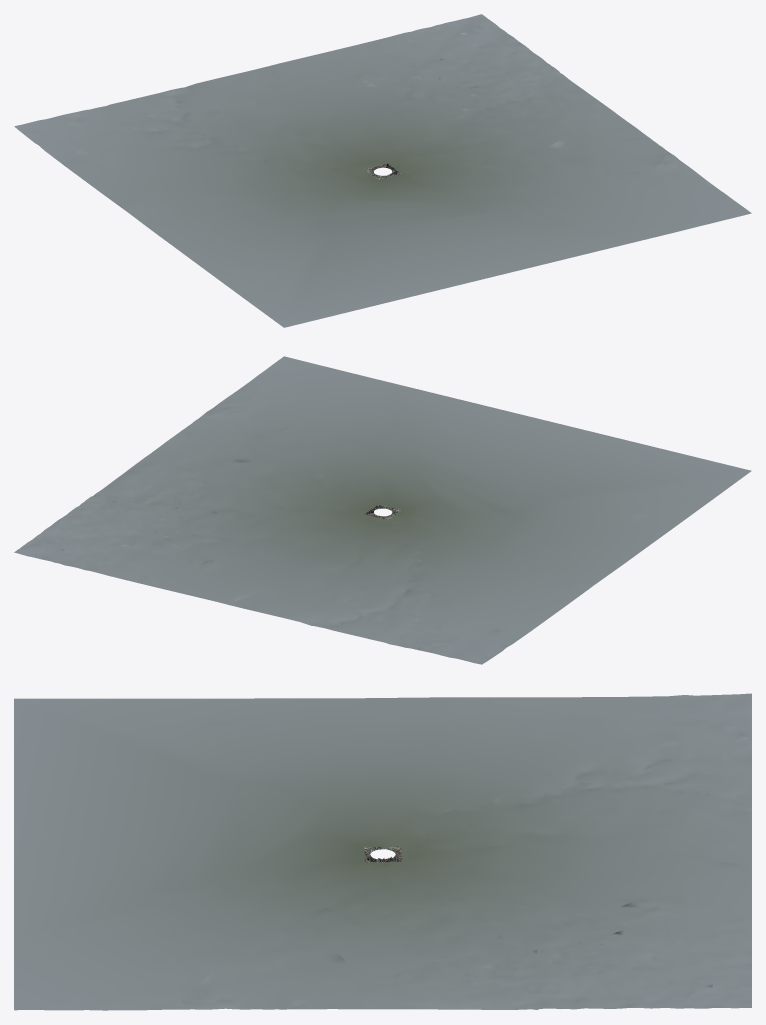
File: marvel_backdrop_part1.glb
3 views of the same model, one above another, from view 1: azimuth 30°, elevation 25°; view 2: azimuth 150°, elevation 25°; view 3: azimuth 270°, elevation 25° (orthographic). The views are drawn at different scales.
Visible parts, largest first — view 1: bg_far_terrain; view 2: bg_far_terrain; view 3: bg_far_terrain.
Part boxes in pixels (bbox=[...]): bg_far_terrain: bbox=[14, 14, 751, 327]; bg_far_terrain: bbox=[14, 356, 751, 664]; bg_far_terrain: bbox=[14, 693, 751, 1010].
Bounding box in the file's own units: 60002 × 494 × 60002.
Materials: 147 (141 with a texture image).
